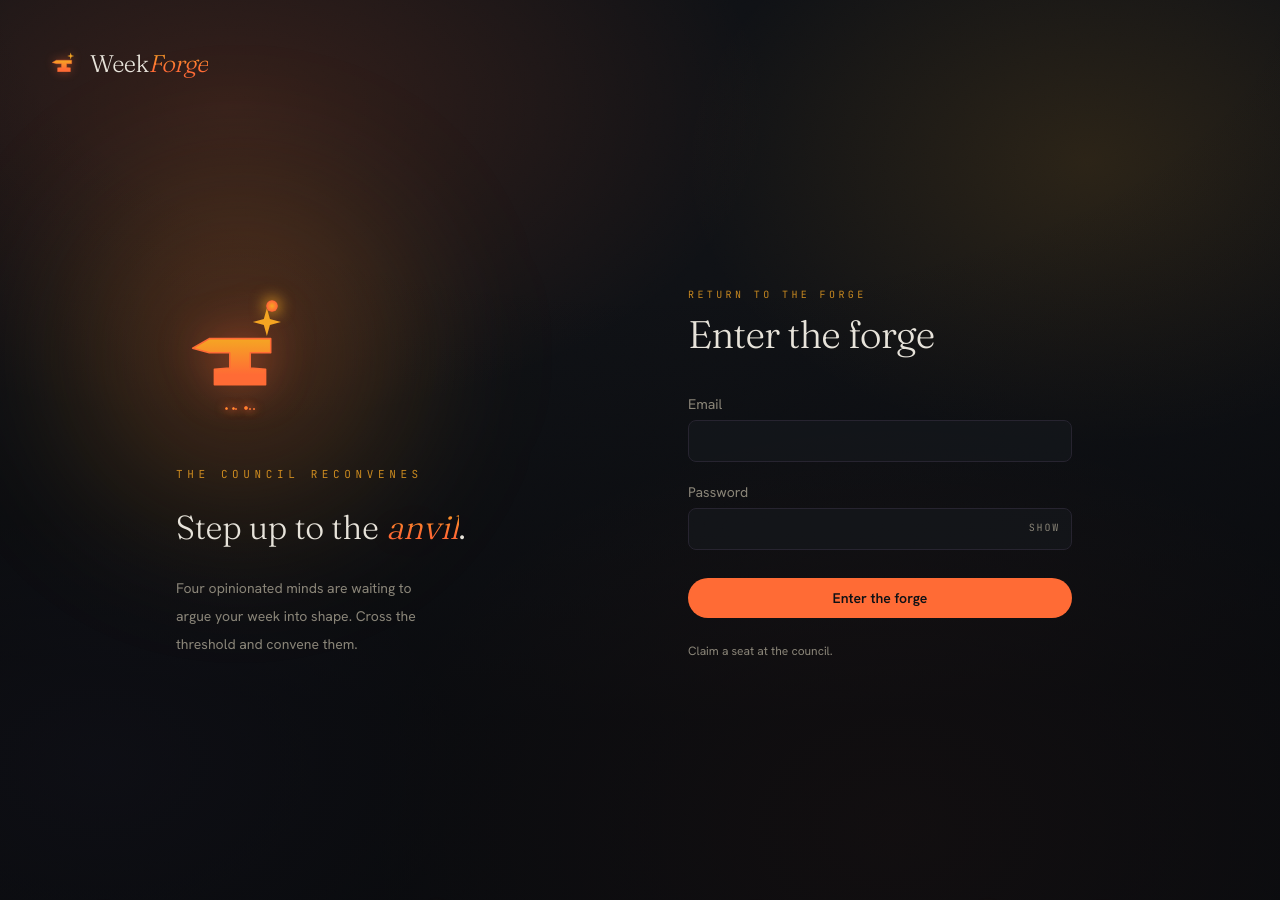
LoginPage › shows the display-name field after switching to signup
Click the button "Claim a seat at the council." at (760, 651), box [688,642,833,661]
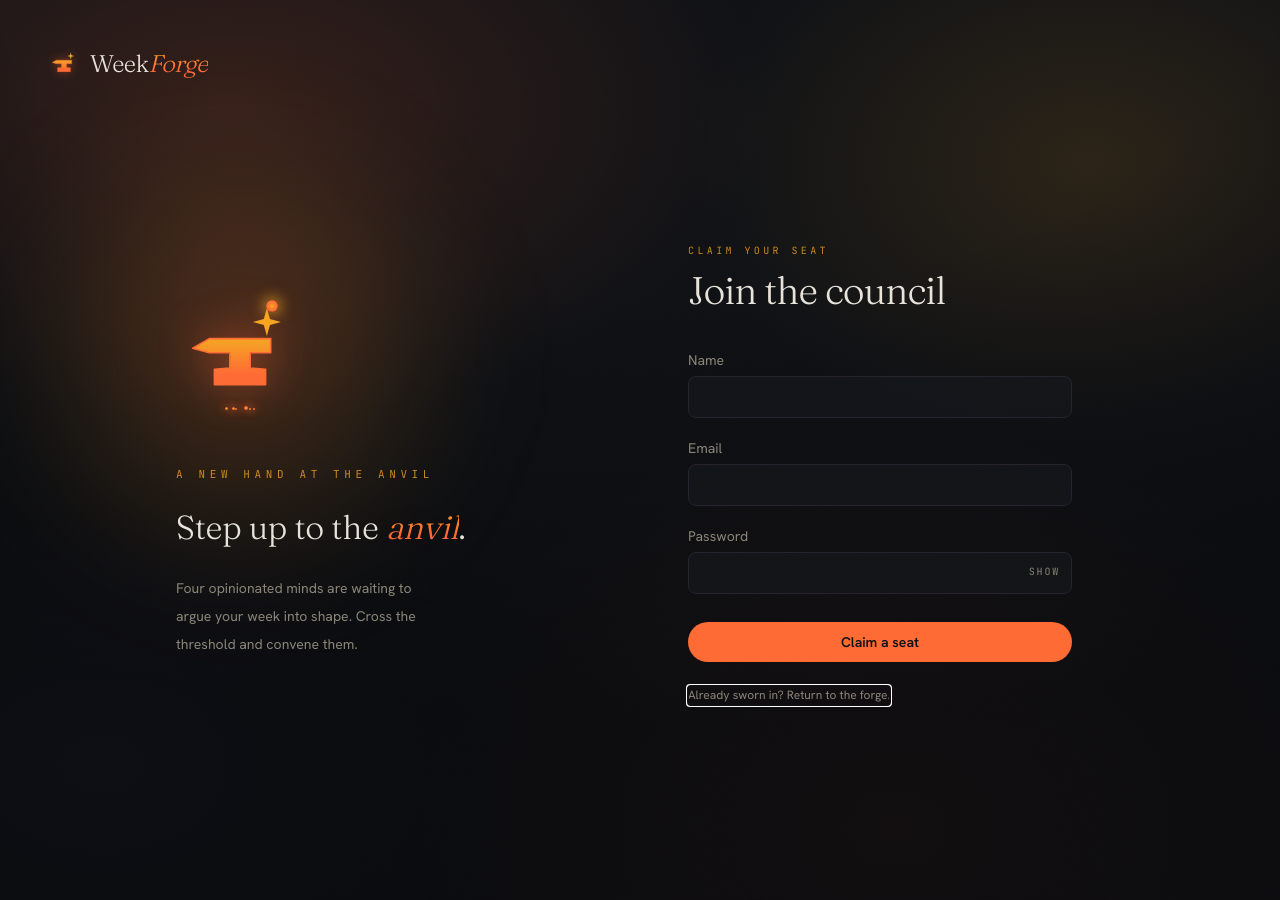
expect the field labelled "Name" is shown: met, box [688,376,1072,418]
